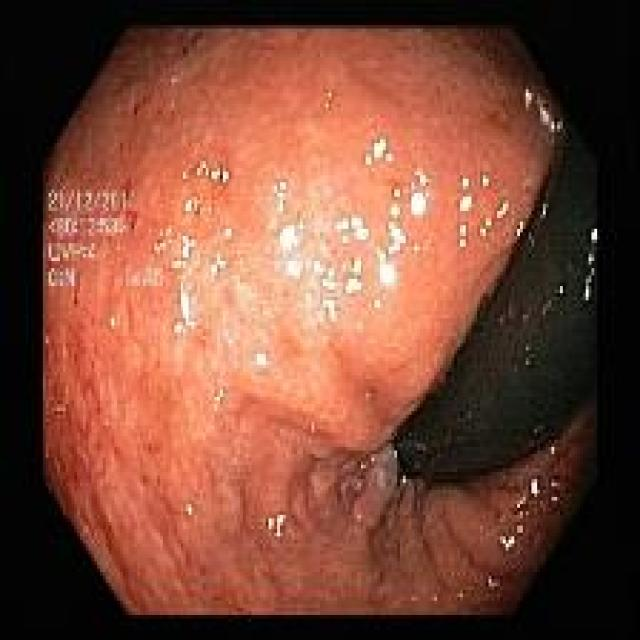ulcerative-colitis: (44, 28, 561, 613)
